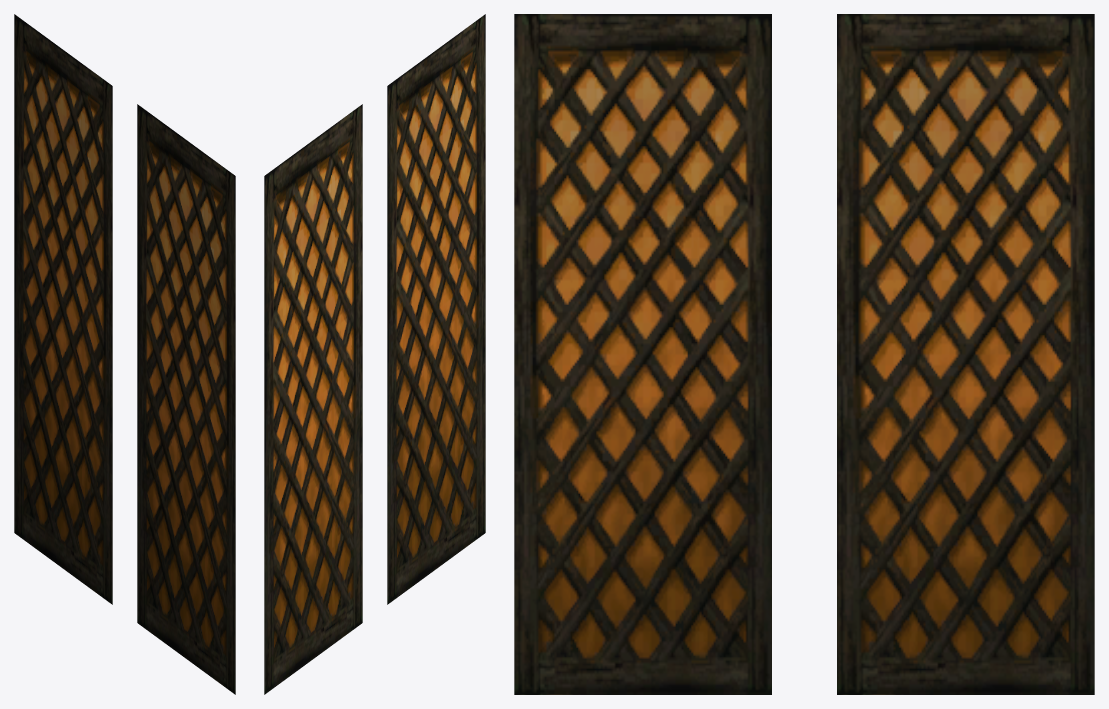
Rendered from LAKETOWN_EXTERIOR_PS_LT_WINDOWS2287.fbx.
The picture shows the model from 3 angles, left to right: view 1: azimuth 30°, elevation 25°; view 2: azimuth 150°, elevation 25°; view 3: azimuth 270°, elevation 25°; orthographic projection. The views are drawn at different scales.
Visible parts, largest first — view 1: LAKETOWN_EXTERIOR_PS_LT_WINDOWS2287; view 2: LAKETOWN_EXTERIOR_PS_LT_WINDOWS2287; view 3: LAKETOWN_EXTERIOR_PS_LT_WINDOWS2287.
Part boxes in pixels (x1,y1,x2,y2): LAKETOWN_EXTERIOR_PS_LT_WINDOWS2287: (14,14,235,694); LAKETOWN_EXTERIOR_PS_LT_WINDOWS2287: (264,14,485,694); LAKETOWN_EXTERIOR_PS_LT_WINDOWS2287: (514,14,1094,694).
Size of the model in its own units: 0.0244 by 20843 by 16107.
1 material, 1 textured.
